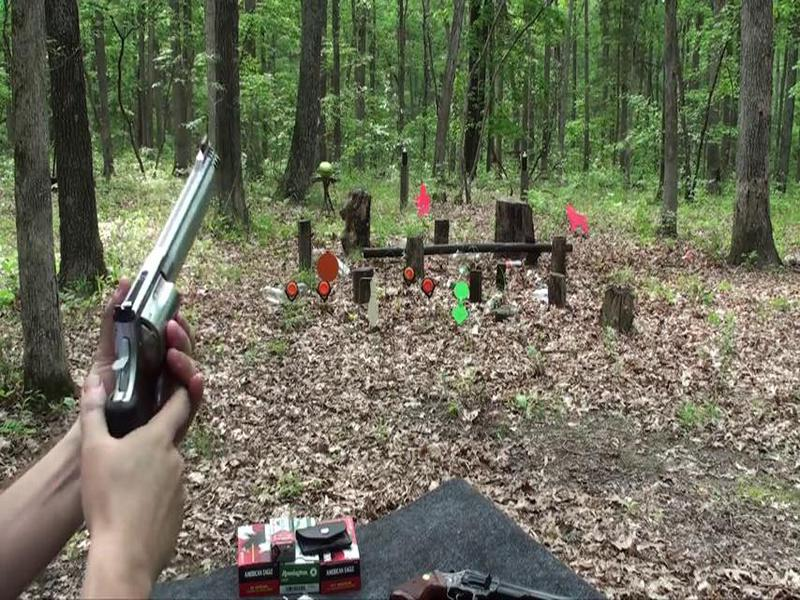Revolver: (101, 129, 237, 447)
